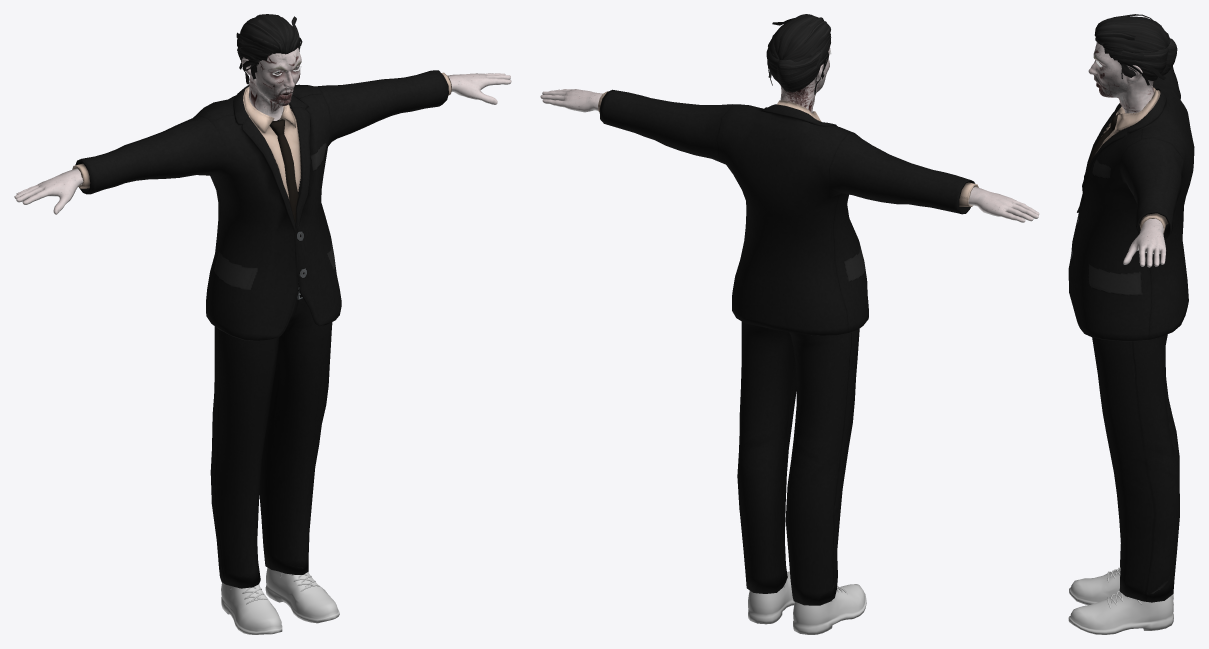
File: Salazar.obj
The picture shows the model from 3 angles, left to right: view 1: azimuth 30°, elevation 25°; view 2: azimuth 150°, elevation 25°; view 3: azimuth 270°, elevation 25°; orthographic projection.
Visible parts, largest first — view 1: Tops, Bottoms, Body, Shoes, Hair; view 2: Tops, Bottoms, Hair, Shoes, Body; view 3: Tops, Bottoms, Shoes, Hair, Body.
Part boxes in pixels (bbox=[...]): Tops: bbox=[72, 70, 451, 340]; Bottoms: bbox=[210, 282, 332, 588]; Body: bbox=[14, 48, 511, 214]; Shoes: bbox=[221, 567, 339, 634]; Hair: bbox=[236, 14, 302, 84]; Tops: bbox=[598, 89, 978, 335]; Bottoms: bbox=[737, 321, 859, 605]; Hair: bbox=[766, 14, 831, 94]; Shoes: bbox=[748, 571, 866, 634]; Body: bbox=[540, 47, 1039, 222]; Tops: bbox=[1068, 66, 1194, 341]; Bottoms: bbox=[1092, 334, 1179, 602]; Shoes: bbox=[1068, 567, 1173, 634]; Hair: bbox=[1094, 14, 1177, 85]; Body: bbox=[1088, 42, 1166, 267].
Size of the model in its own units: 171 by 196 by 37.69.
